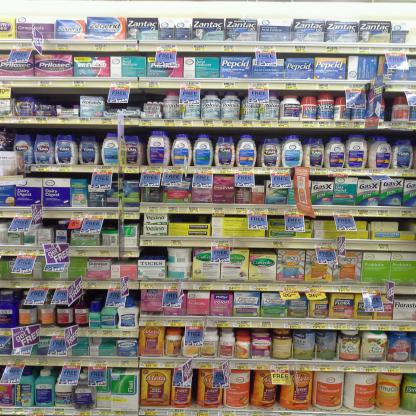Void: (40, 88, 75, 106), (146, 244, 162, 258), (85, 289, 103, 300), (173, 215, 201, 222), (400, 221, 411, 231)
